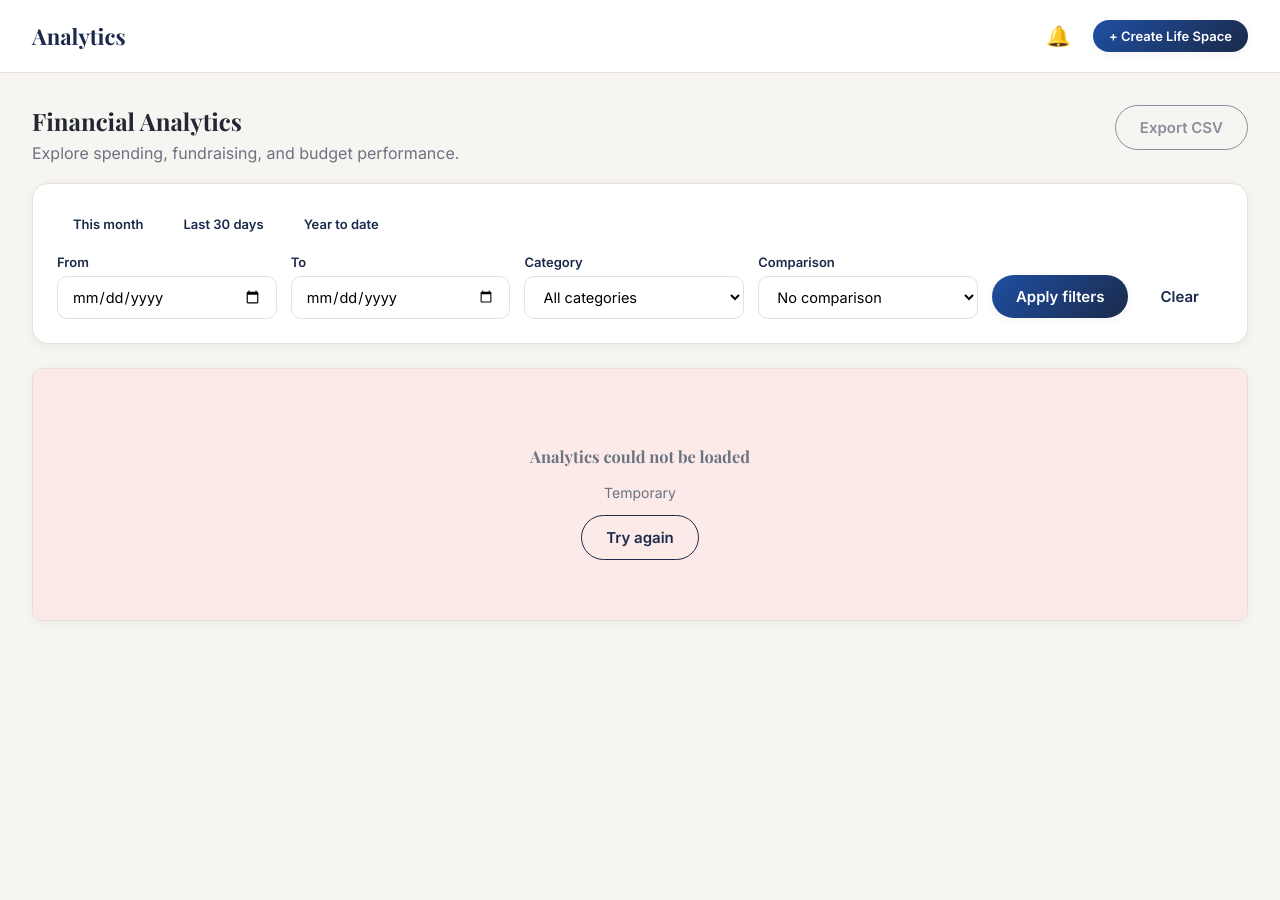
Test: Analytics v2 › retries after an error
The width and height of the screenshot is (1280, 900).
Click the button "Try again": (640, 537) [581, 515, 699, 560]
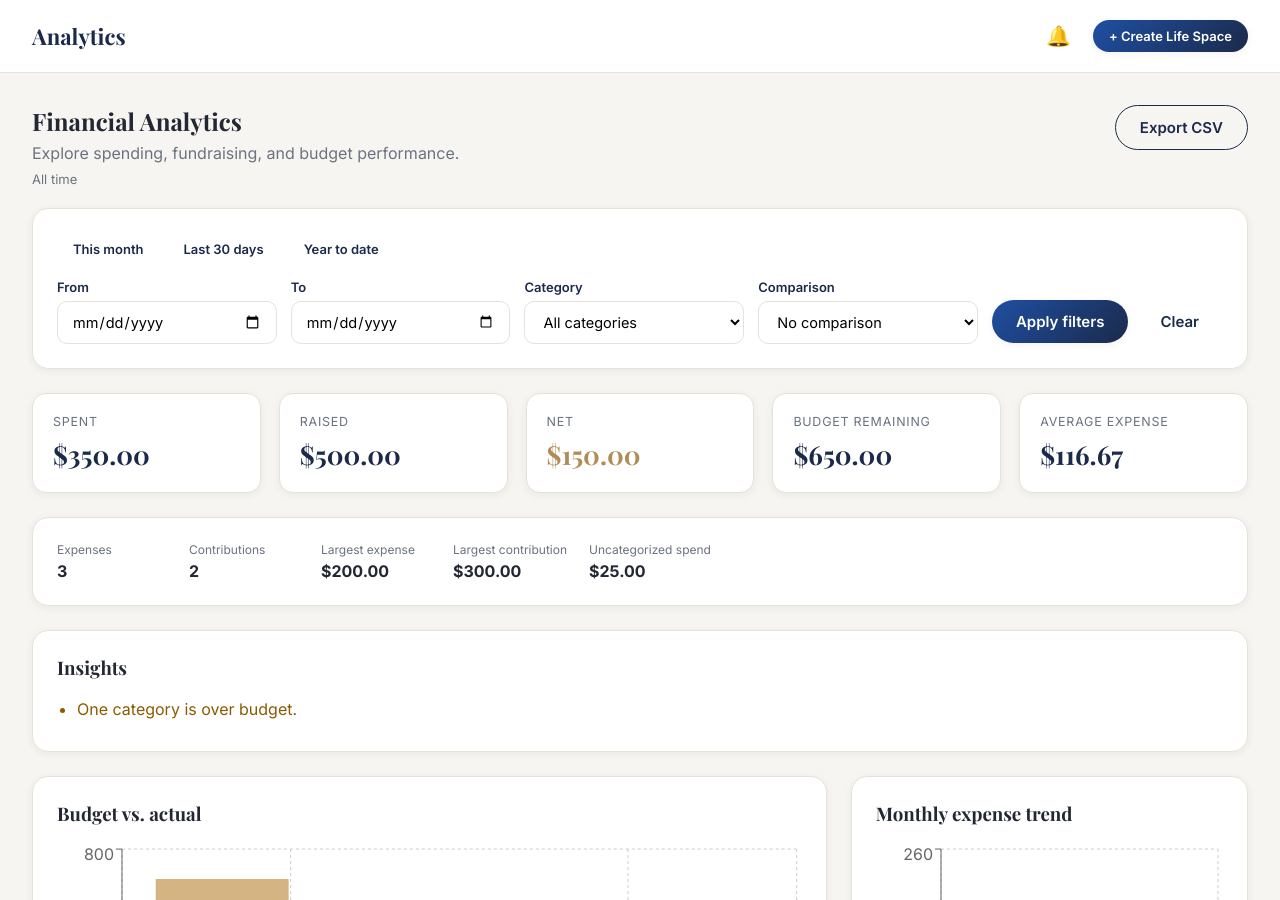
Expected: the text "$350.00" is shown, [53, 437, 150, 472]
